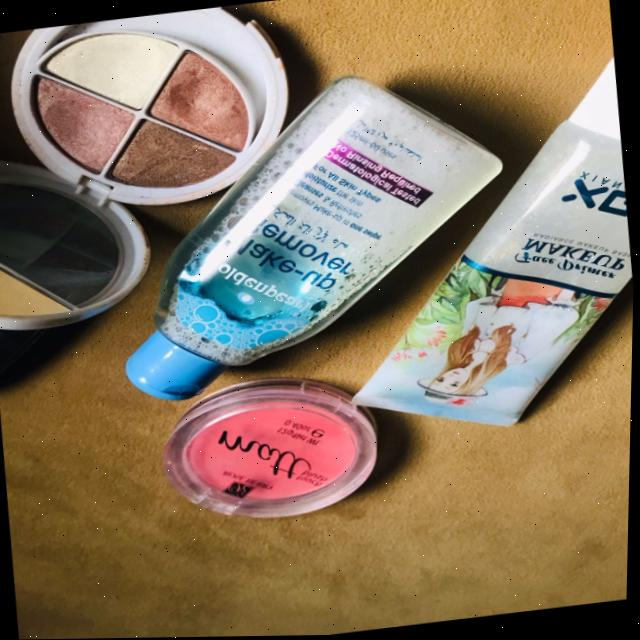bb cream: (317, 0, 640, 444)
blush: (3, 3, 267, 230), (152, 369, 401, 554)
